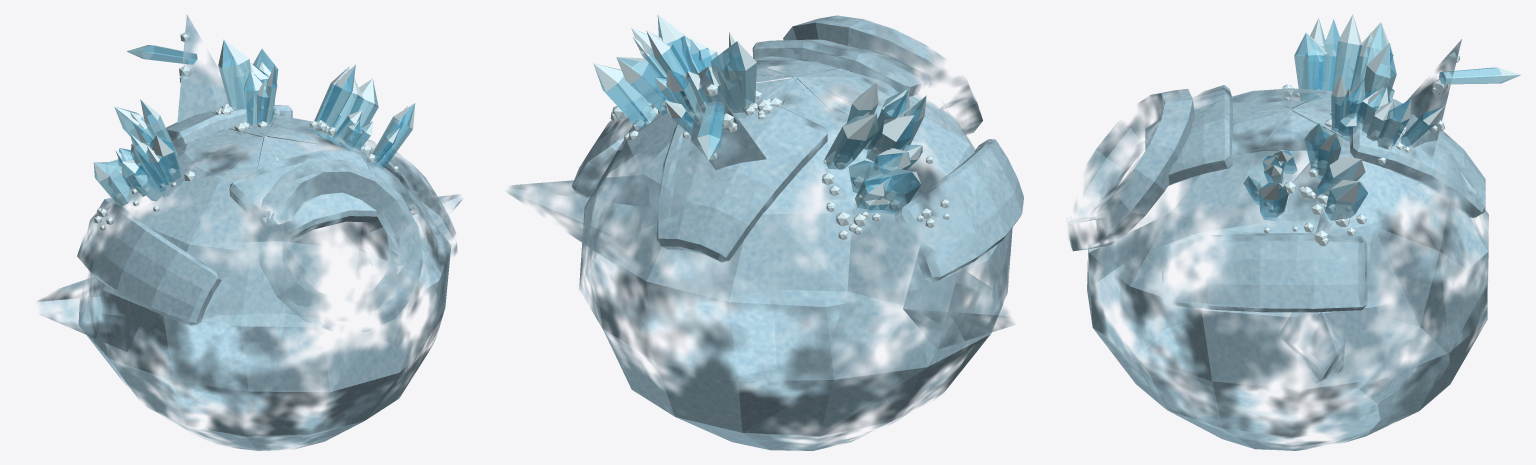
Rendered from normal.glb.
The picture shows the model from 3 angles, left to right: view 1: azimuth 30°, elevation 25°; view 2: azimuth 150°, elevation 25°; view 3: azimuth 270°, elevation 25°; orthographic projection. The views are drawn at different scales.
Visible parts, largest first — view 1: FrostCoat, AttachedIce; view 2: FrostCoat, AttachedIce; view 3: FrostCoat, AttachedIce.
Part boxes in pixels (<box>): FrostCoat: <box>37,14,462,450</box>; AttachedIce: <box>93,32,415,230</box>; FrostCoat: <box>506,15,1023,450</box>; AttachedIce: <box>593,14,949,240</box>; FrostCoat: <box>1068,39,1488,450</box>; AttachedIce: <box>1243,14,1521,246</box>.
Size of the model in its own units: 1.01 by 0.7542 by 0.8066.
Materials: 4 (1 with a texture image).
